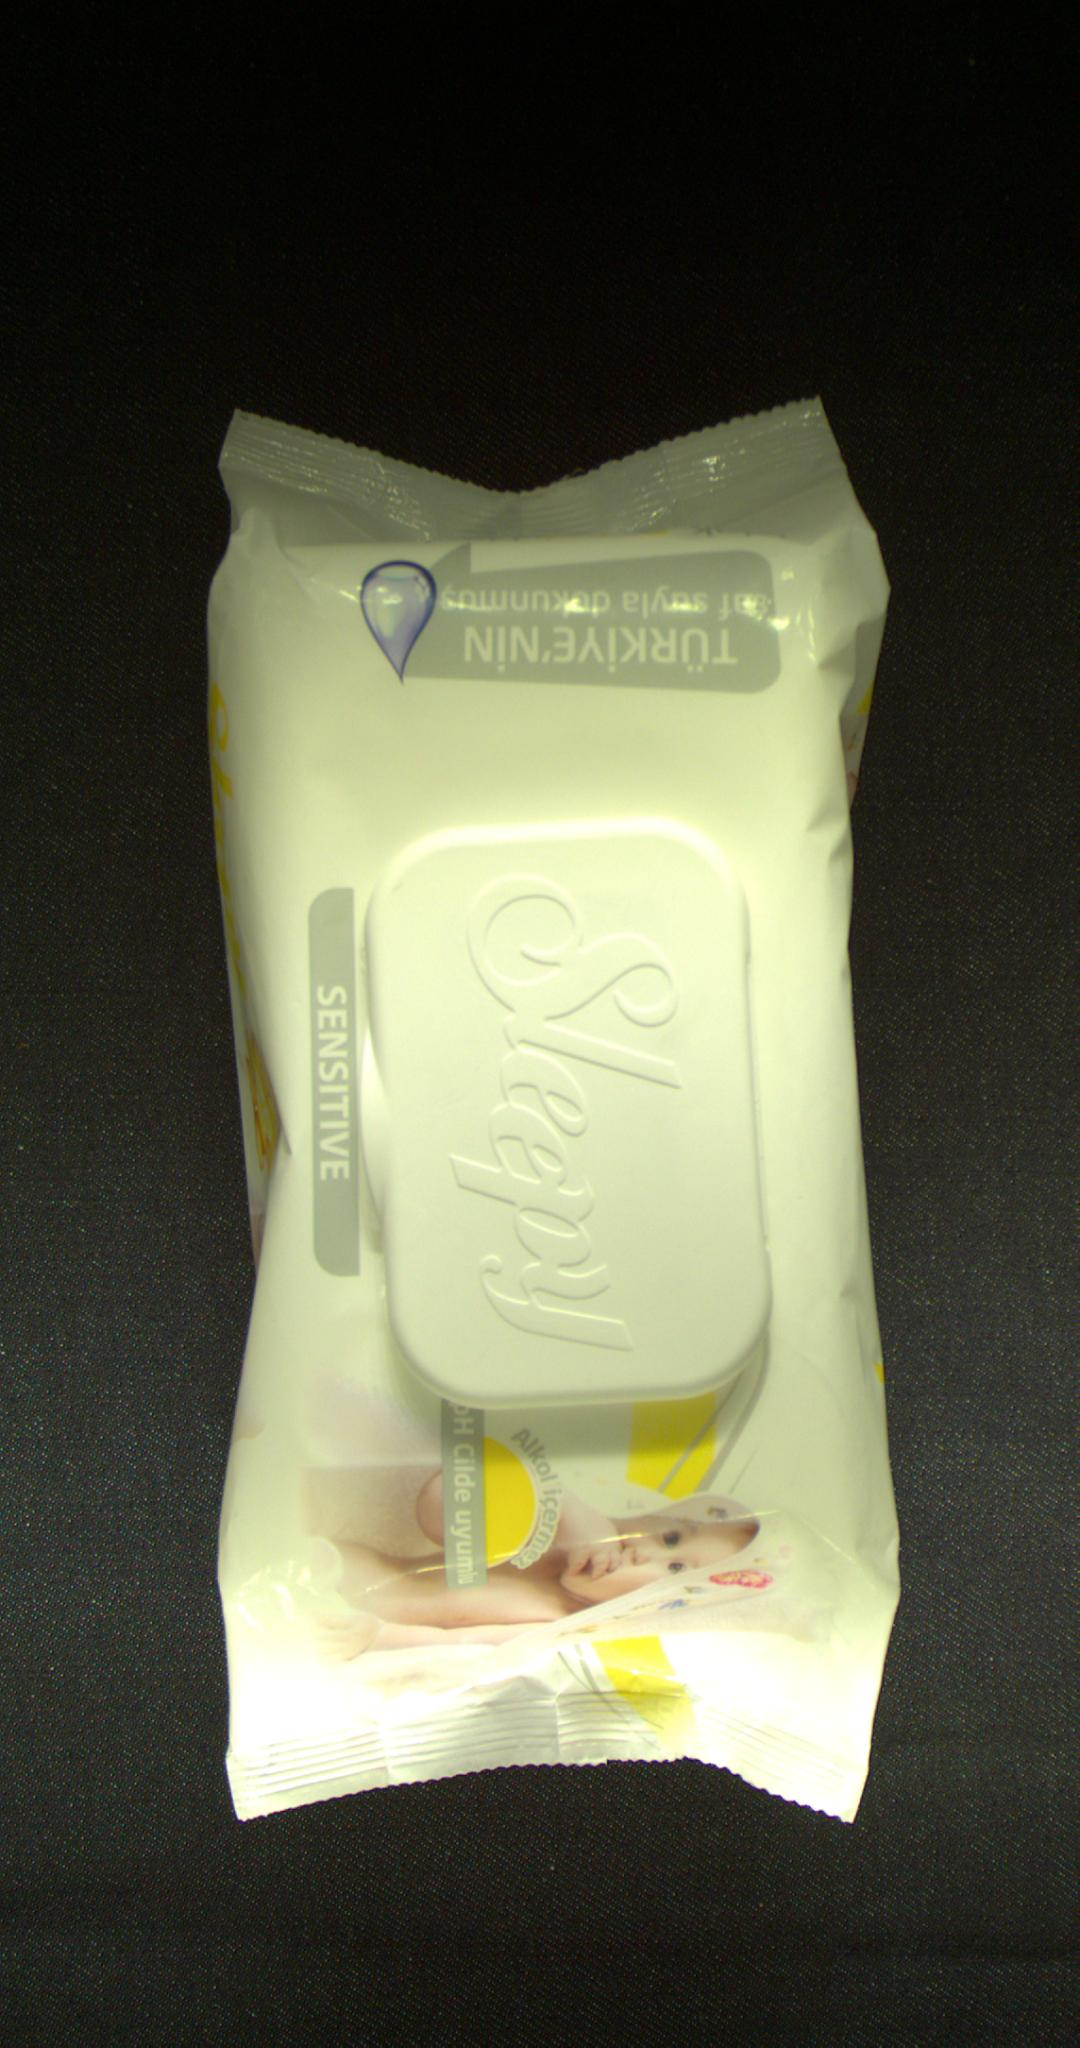kapak: (366, 825, 778, 1406)
